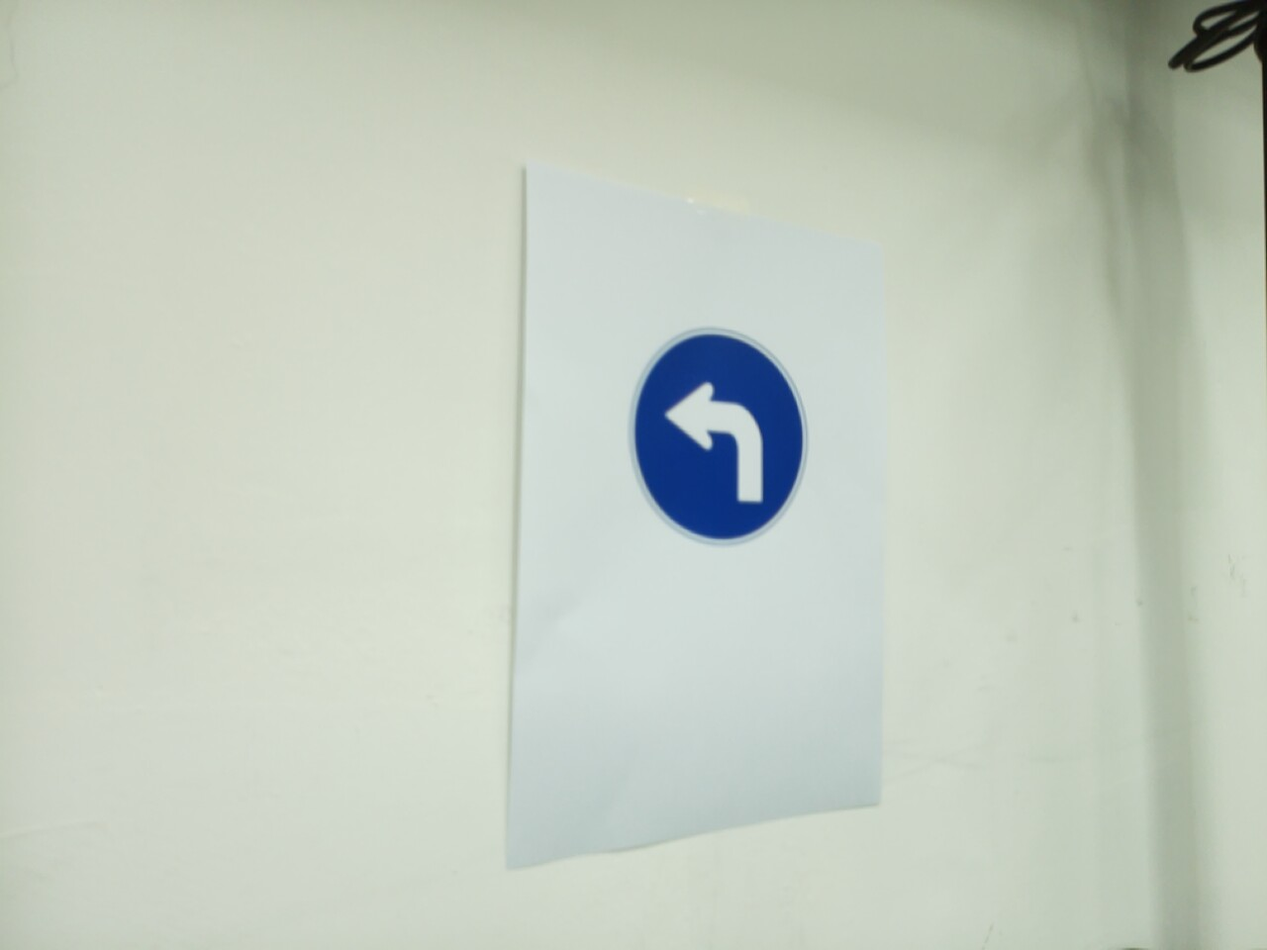left_turn: (628, 327, 810, 547)
